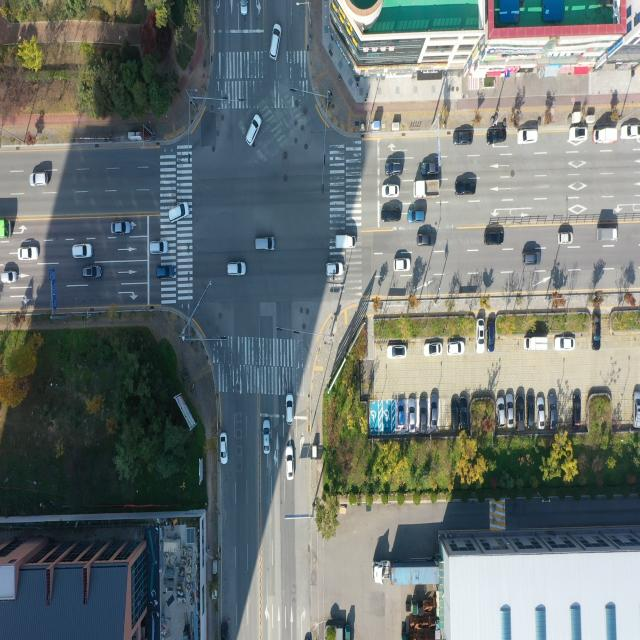car: (246, 114, 262, 146), (170, 202, 192, 222), (591, 310, 602, 347), (256, 236, 278, 253), (271, 24, 281, 60), (112, 219, 134, 235), (228, 262, 248, 279), (488, 129, 508, 146), (419, 162, 440, 178), (451, 395, 460, 432), (554, 337, 576, 352), (518, 129, 538, 145), (455, 181, 476, 196), (429, 393, 438, 428), (517, 395, 526, 430), (386, 345, 407, 360), (549, 393, 558, 427), (477, 318, 486, 352), (487, 320, 496, 354), (73, 244, 92, 260), (21, 246, 40, 262), (31, 172, 49, 188), (459, 396, 467, 432), (621, 126, 640, 141), (286, 444, 294, 479), (420, 395, 428, 430), (264, 420, 272, 454), (527, 396, 535, 430), (326, 264, 344, 279), (424, 343, 442, 358), (85, 267, 104, 281), (219, 433, 227, 466), (505, 393, 513, 425), (150, 241, 168, 255), (158, 267, 176, 281), (486, 233, 504, 247), (286, 396, 294, 426), (497, 396, 505, 426), (536, 396, 544, 426), (573, 392, 580, 426), (382, 209, 400, 222), (418, 235, 436, 248), (394, 260, 410, 274), (570, 128, 586, 142), (448, 342, 464, 356), (409, 397, 416, 429), (634, 393, 640, 430), (409, 210, 426, 223), (454, 134, 472, 146), (383, 184, 399, 197), (386, 164, 402, 177), (2, 272, 17, 285), (523, 253, 539, 265), (526, 256, 541, 268), (398, 401, 405, 426), (219, 622, 228, 640), (560, 234, 573, 246), (240, 0, 248, 15)
large_bus: (0, 217, 11, 240)
large_truck: (372, 560, 442, 587)
small_truck: (414, 178, 439, 198), (335, 235, 359, 251), (593, 128, 616, 144), (524, 337, 548, 352), (596, 228, 618, 243)
